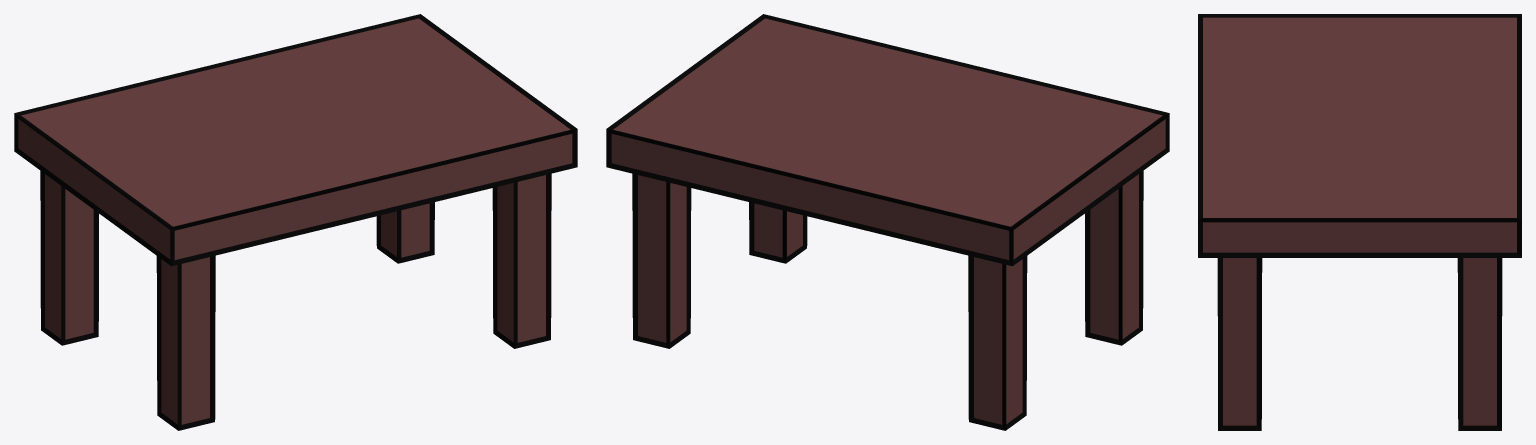
The model's file is Dark_Brown_Small_1.glb.
The picture shows the model from 3 angles, left to right: view 1: azimuth 30°, elevation 25°; view 2: azimuth 150°, elevation 25°; view 3: azimuth 270°, elevation 25°; orthographic projection. The views are drawn at different scales.
Visible parts, largest first — view 1: Table; view 2: Table; view 3: Table.
Boxes of the visible parts, x1,y1,x2,y2 form: Table: (14,14,577,430); Table: (606,14,1169,430); Table: (1198,14,1521,430).
Size of the model in its own units: 1.51 by 0.7615 by 1.01.
